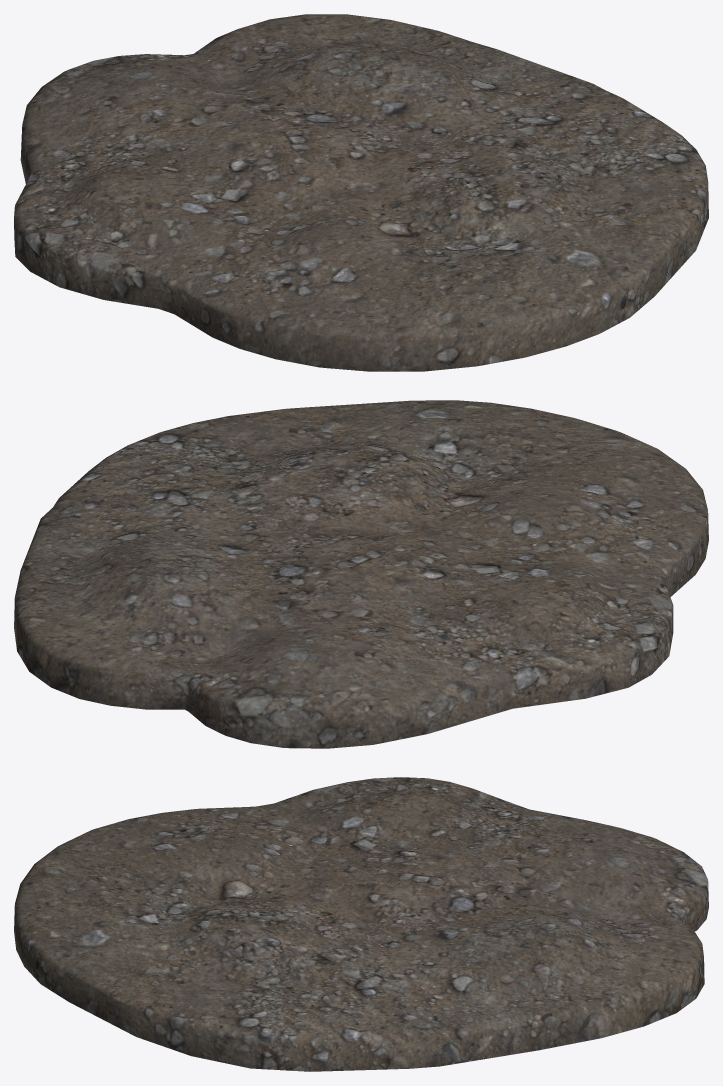
File: cave_modules_floor_3.dae
The picture shows the model from 3 angles, top to bottom: view 1: azimuth 30°, elevation 25°; view 2: azimuth 150°, elevation 25°; view 3: azimuth 270°, elevation 25°; orthographic projection. The views are drawn at different scales.
Visible parts, largest first — view 1: floor_03; view 2: floor_03; view 3: floor_03.
Part boxes in pixels (x1,y1,x2,y2): floor_03: (14,14,708,371); floor_03: (14,400,708,748); floor_03: (14,777,708,1071).
Size of what is drawn, in the model's own units: 5.11 by 0.4929 by 5.63.
